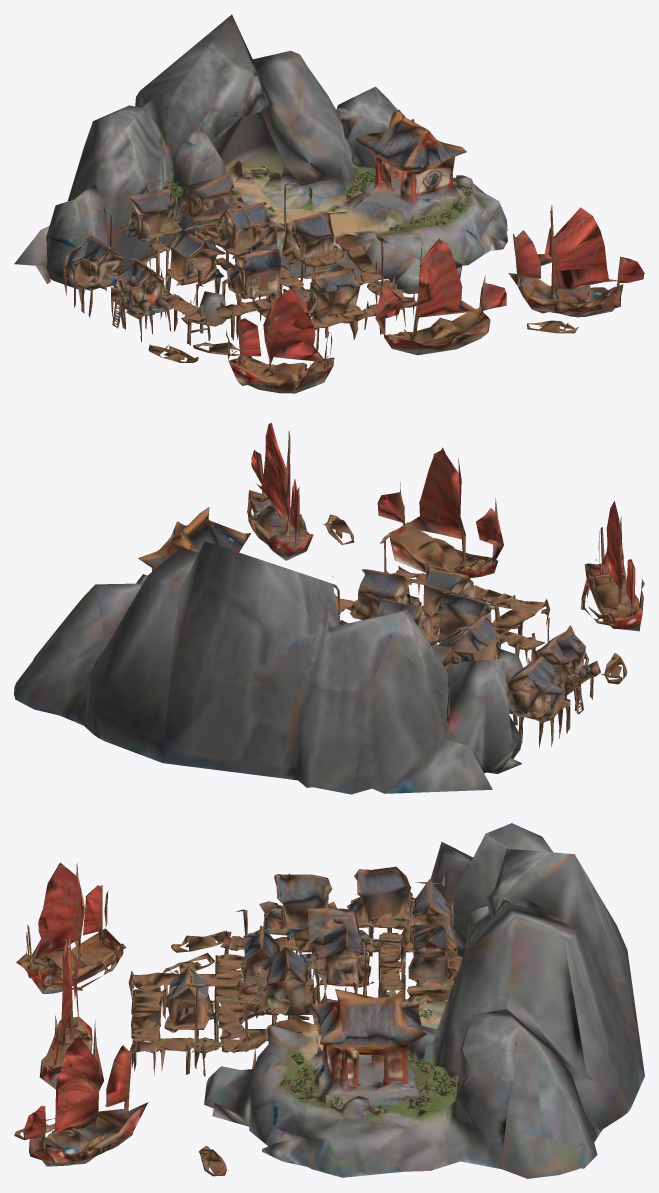
Rendered from m_cheungchau.glb.
3 views of the same model, one above another, from view 1: azimuth 30°, elevation 25°; view 2: azimuth 150°, elevation 25°; view 3: azimuth 270°, elevation 25° (orthographic). The views are drawn at different scales.
Size of the model in its own units: 0.8871 by 0.3655 by 0.932.
Materials: 1 (1 with a texture image).
